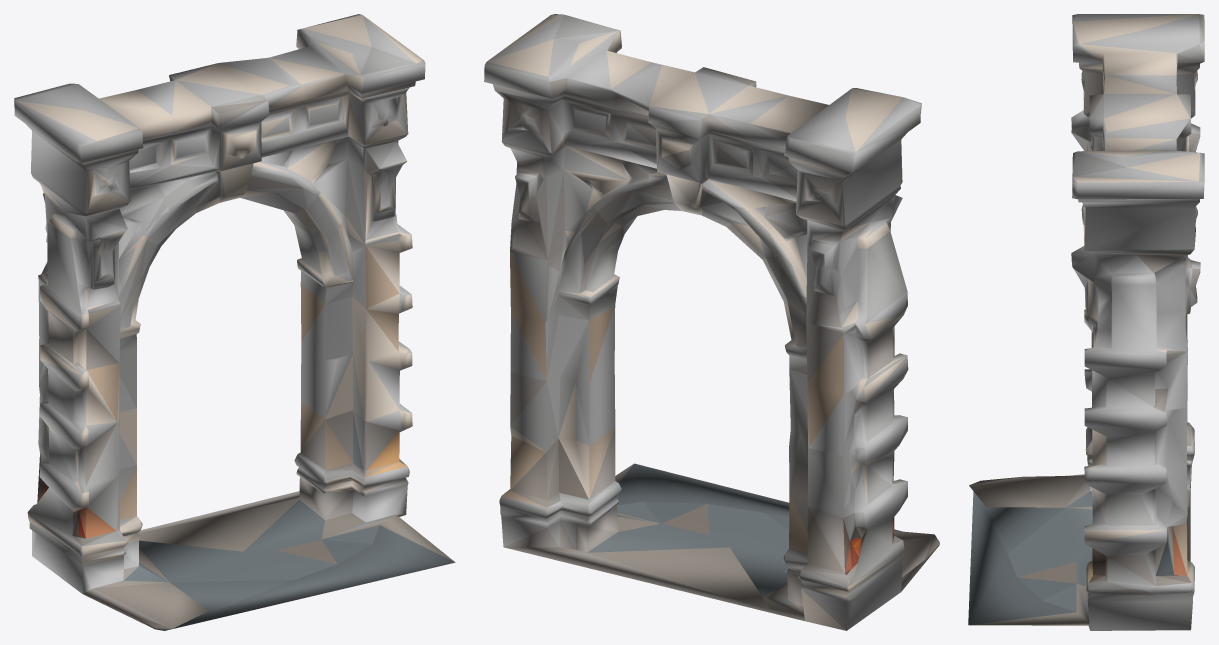
Rendered from descent_portal.glb.
The picture shows the model from 3 angles, left to right: view 1: azimuth 30°, elevation 25°; view 2: azimuth 150°, elevation 25°; view 3: azimuth 270°, elevation 25°; orthographic projection. The views are drawn at different scales.
Visible parts, largest first — view 1: Mesh_0; view 2: Mesh_0; view 3: Mesh_0.
Boxes of the visible parts, <box> form: Mesh_0: <box>14,14,455,630</box>; Mesh_0: <box>484,14,939,630</box>; Mesh_0: <box>968,14,1204,630</box>.
Bounding box in the file's own units: 2.07 × 2.6 × 1.22.
1 material, 1 textured.
